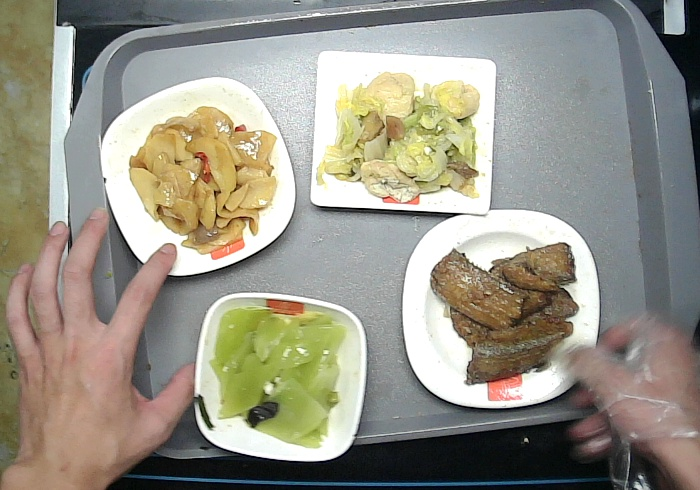SHKJ-Bai_Se_Cai_Die: (97, 74, 299, 277)
SHKJ-Bai_Se_Si_Fang_Cai_Die: (401, 206, 602, 411)
SHKJ-Bai_Se_Xiao_Fang_Die: (191, 289, 368, 463)
SHKJ-Si_Fang_Min: (308, 48, 499, 217)
